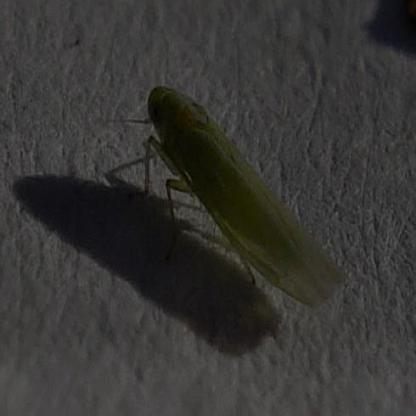green-leafhopper: (136, 73, 348, 314)
